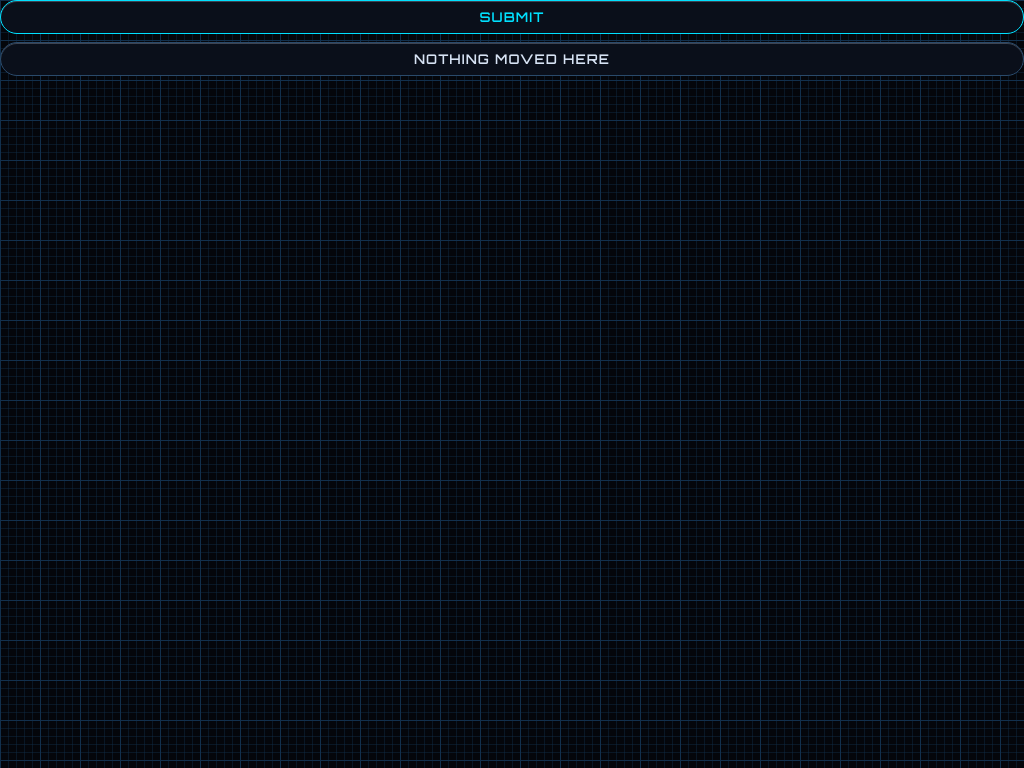
Scenario: SubmitBar › sends answer nothing for 'Nothing moved here', with no marks needed
Click the button "Nothing moved here".
click(512, 59)  # box [0,42,1023,76]
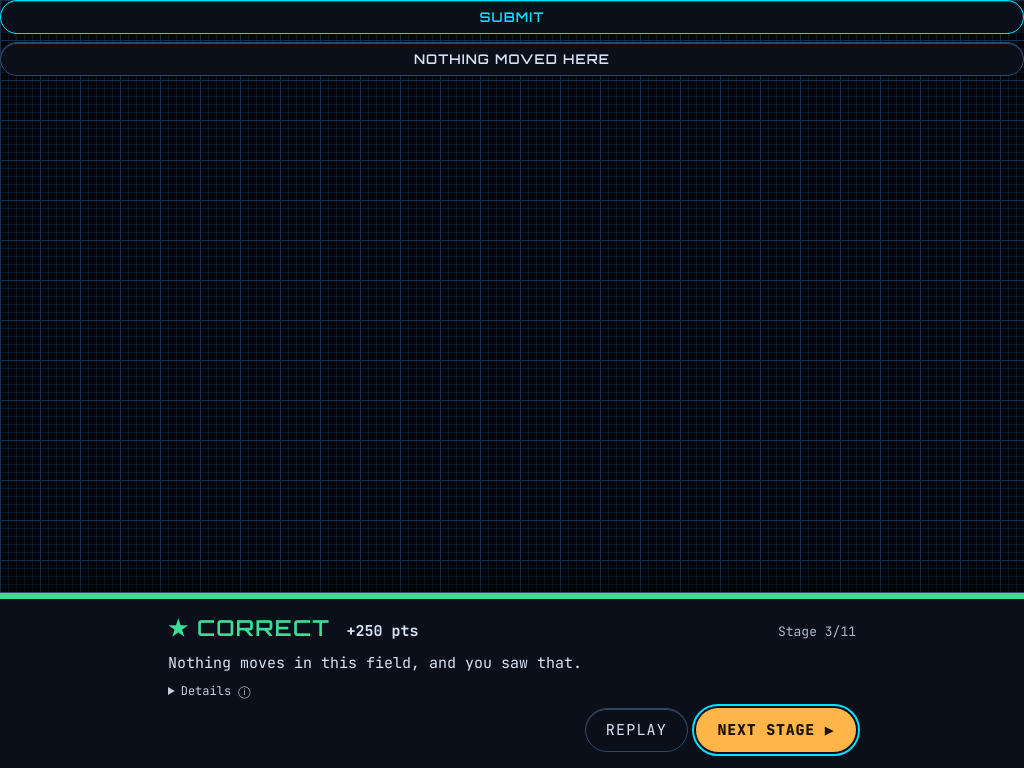
expect the dialog with test id "verdict" shows "CORRECT": met, box [168,614,330,640]
